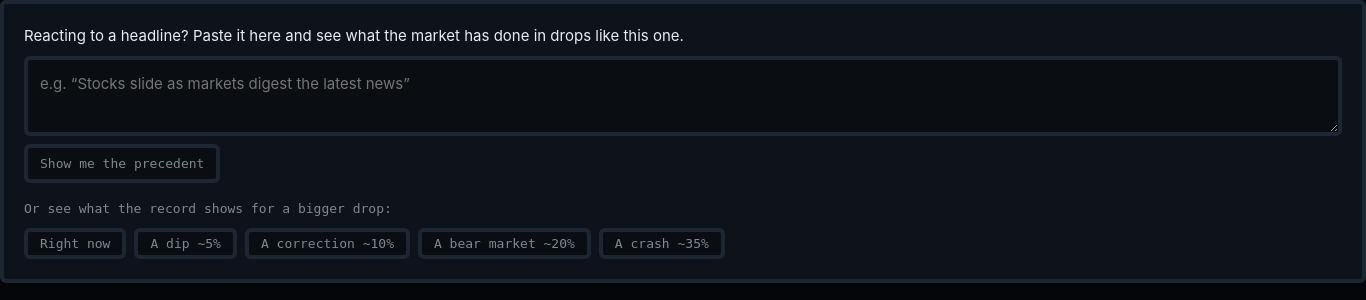
it: HeadlineContextualizer — pull-only, calm, non-interpretive › scenario chips are disabled until a headline is typed (no fetch on mount)
The image size is (1366, 300).
Expected: the element with test id "headline-scenarios" is shown, [24, 201, 725, 259]
Expected: the button with test id "headline-scenario-crash" is disabled, [599, 228, 725, 259]
Type "Markets tumble" into the text box with test id "headline-input".
click(683, 96); type("Markets tumble")  # box [24, 56, 1342, 136]
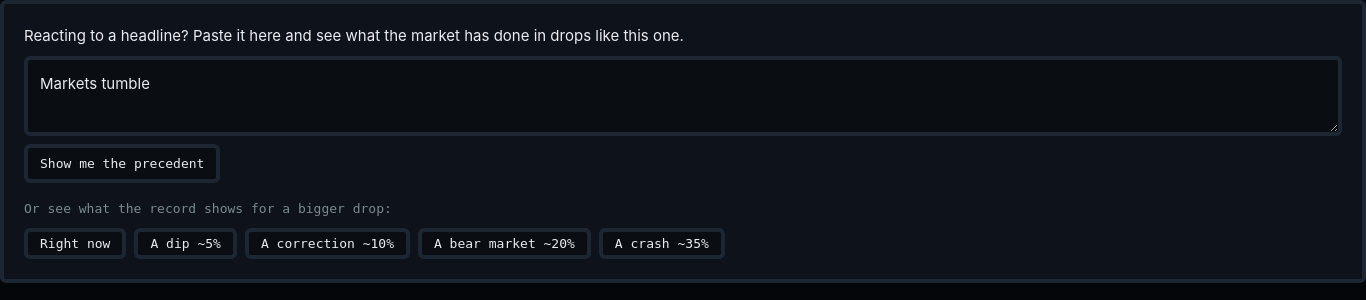
Now the button with test id "headline-scenario-crash" is enabled, box [599, 228, 725, 259]
